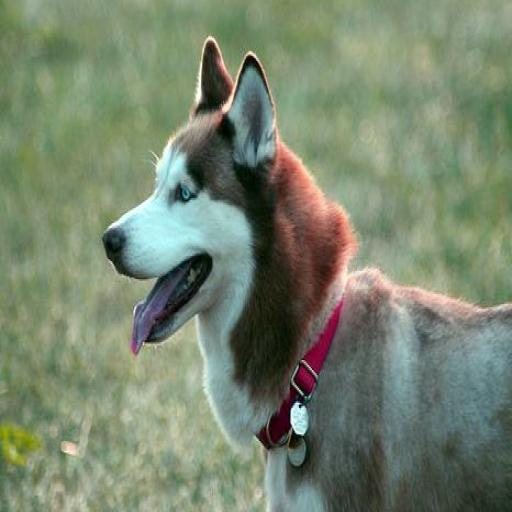dog_face: (109, 56, 274, 335)
